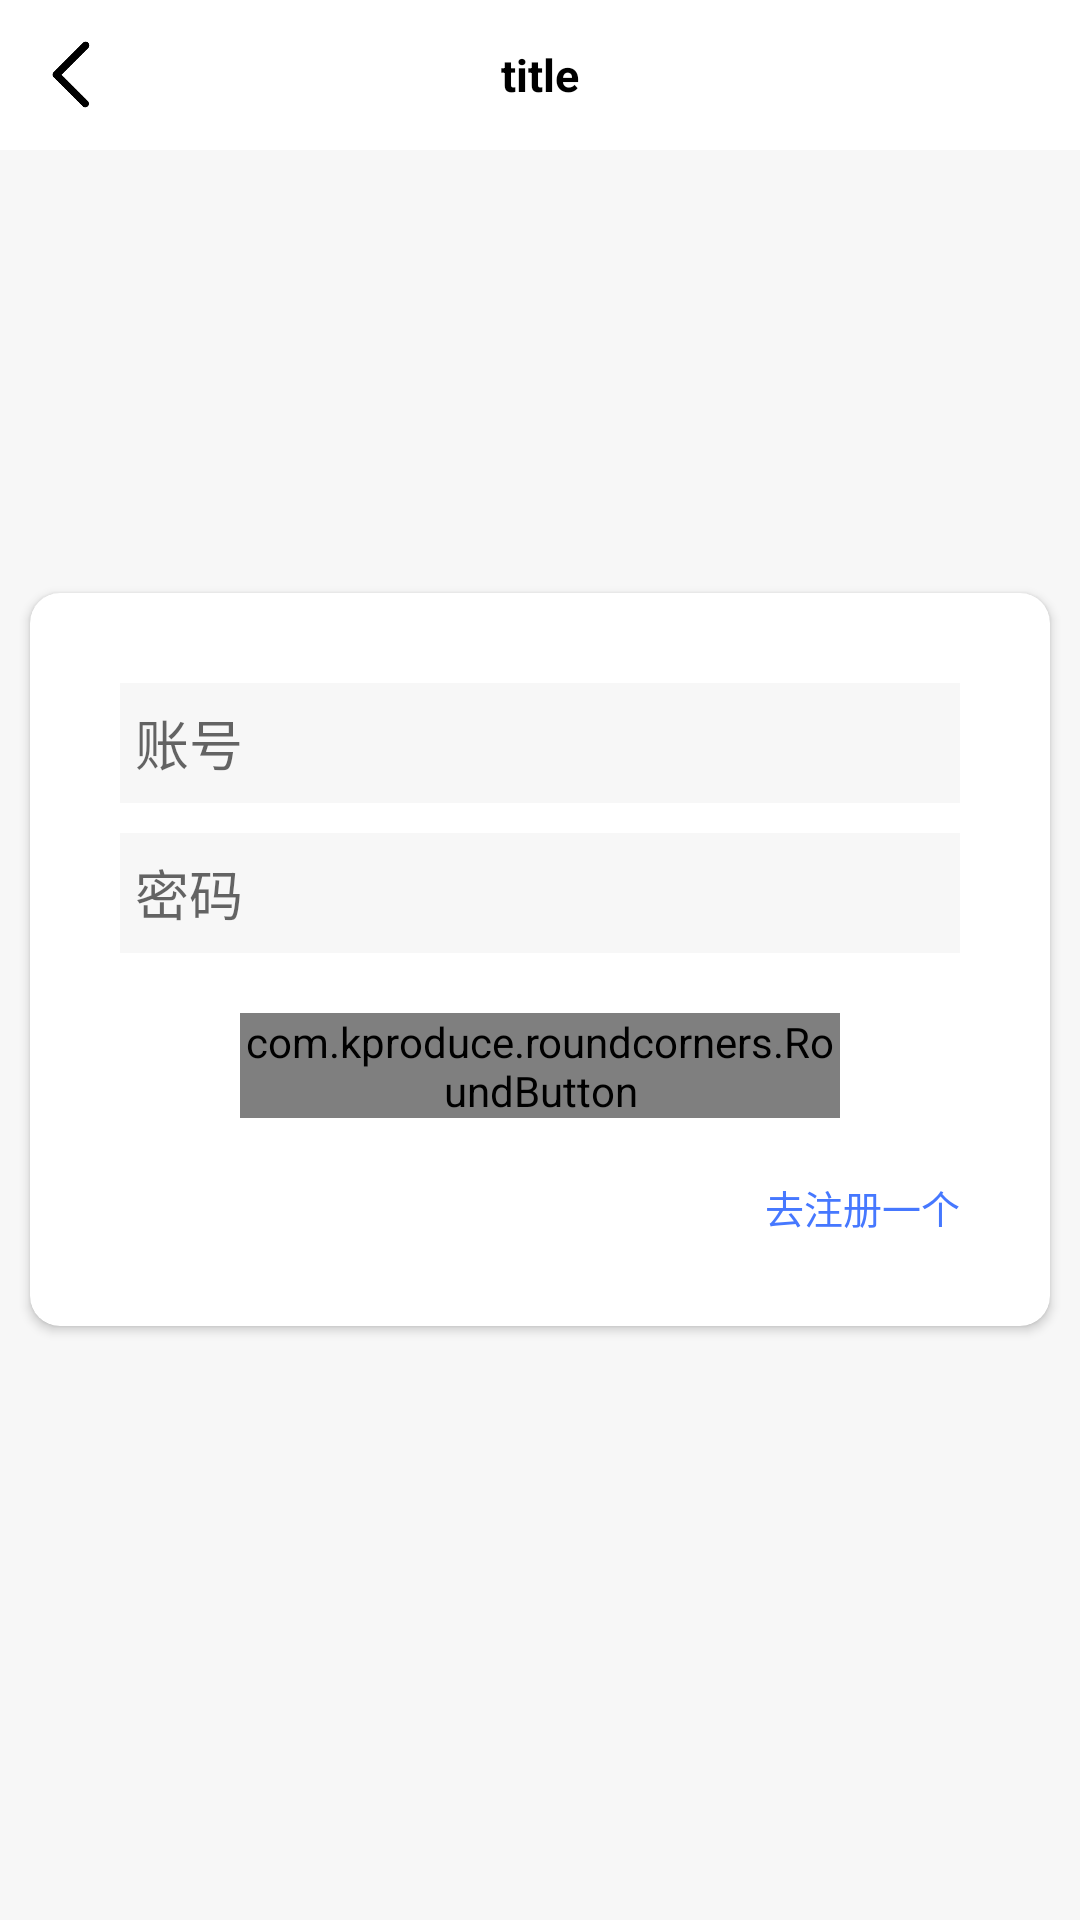

Icon click points for this 1080px×1920px phone screenshot, format point (x, y):
arrow left: point (71, 74)
